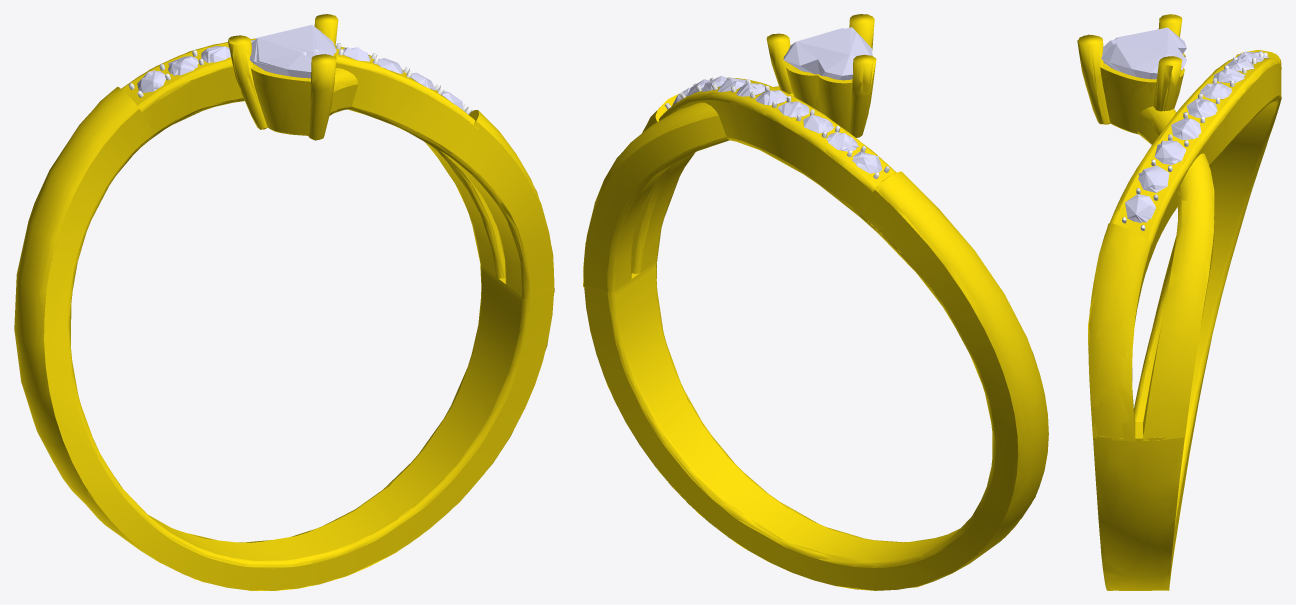
File: DLR-D000679233.glb
The picture shows the model from 3 angles, left to right: view 1: azimuth 30°, elevation 25°; view 2: azimuth 150°, elevation 25°; view 3: azimuth 270°, elevation 25°; orthographic projection.
Visible parts, largest first — view 1: highPolyMesh, lowPolyMesh; view 2: highPolyMesh, lowPolyMesh; view 3: highPolyMesh, lowPolyMesh.
Part boxes in pixels (left/top/right/bottom): highPolyMesh: left=14, top=14, right=554, bottom=590; lowPolyMesh: left=14, top=14, right=554, bottom=590; highPolyMesh: left=583, top=14, right=1048, bottom=590; lowPolyMesh: left=583, top=14, right=1040, bottom=590; highPolyMesh: left=1078, top=14, right=1281, bottom=590; lowPolyMesh: left=1077, top=14, right=1281, bottom=590.
Size of the model in its own units: 0.0203 by 0.0217 by 0.00764.
